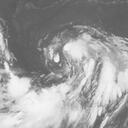cyclone: (61, 34, 107, 76)
